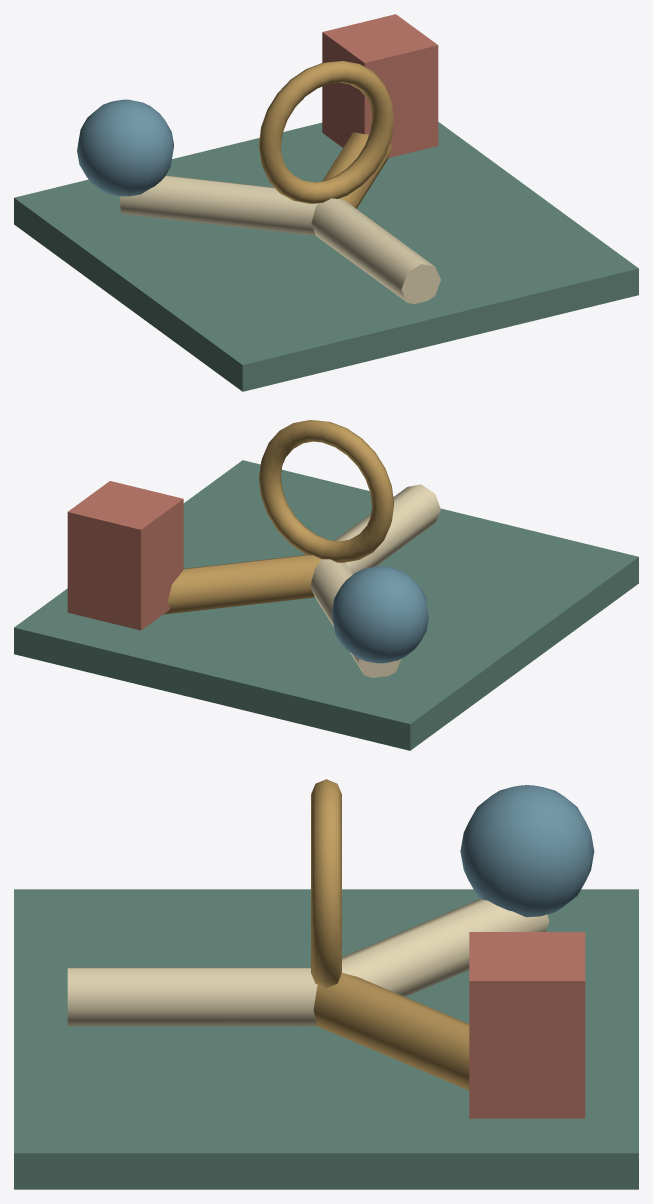
The picture shows the model from 3 angles, top to bottom: view 1: azimuth 30°, elevation 25°; view 2: azimuth 150°, elevation 25°; view 3: azimuth 270°, elevation 25°; orthographic projection. The views are drawn at different scales.
Size of the model in its own units: 1.4 by 0.665 by 1.4.
